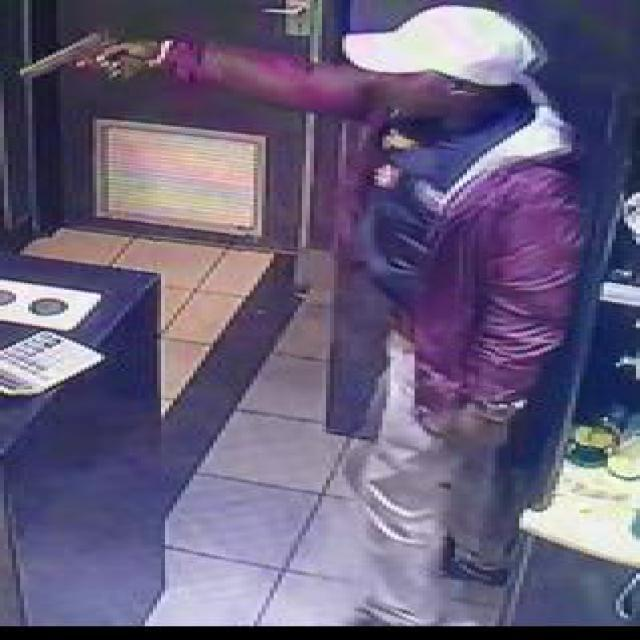gun: (8, 26, 161, 84)
